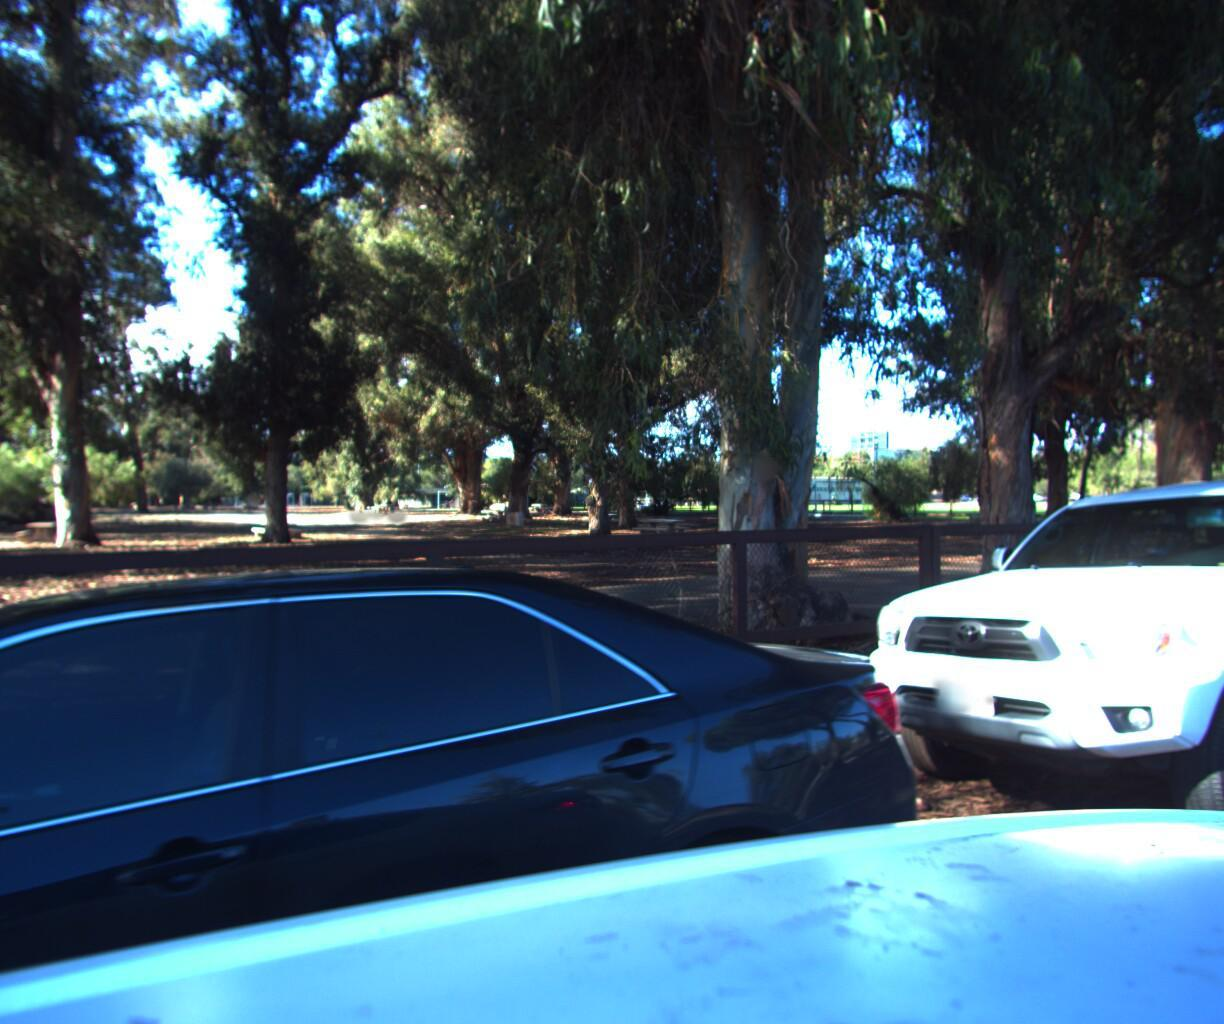car: (0, 525, 1046, 1024), (825, 460, 1224, 933)
